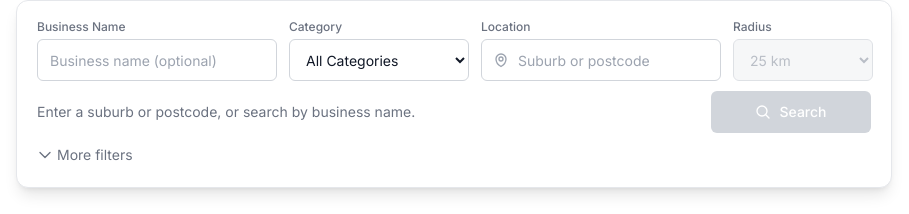
Test: SearchBar › search button enabled when business name is provided (no location needed)
Type "Test Plumbing" into the field with placeholder "Business name (optional)" at (157, 60), box [37,39,277,81]
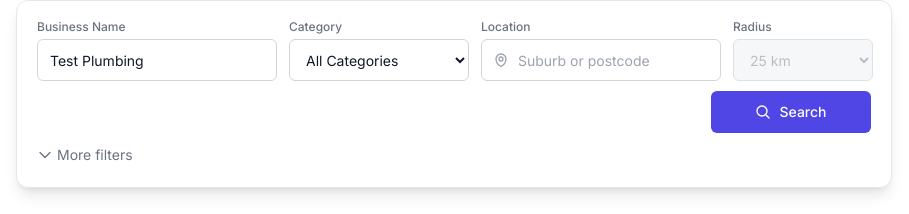
Expected: the button "Search" is enabled, [711,91,871,133]
